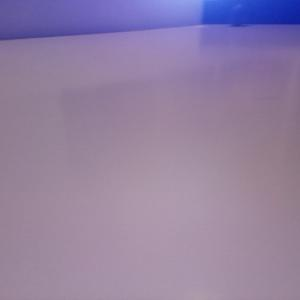dead_ball: (229, 4, 247, 26)
